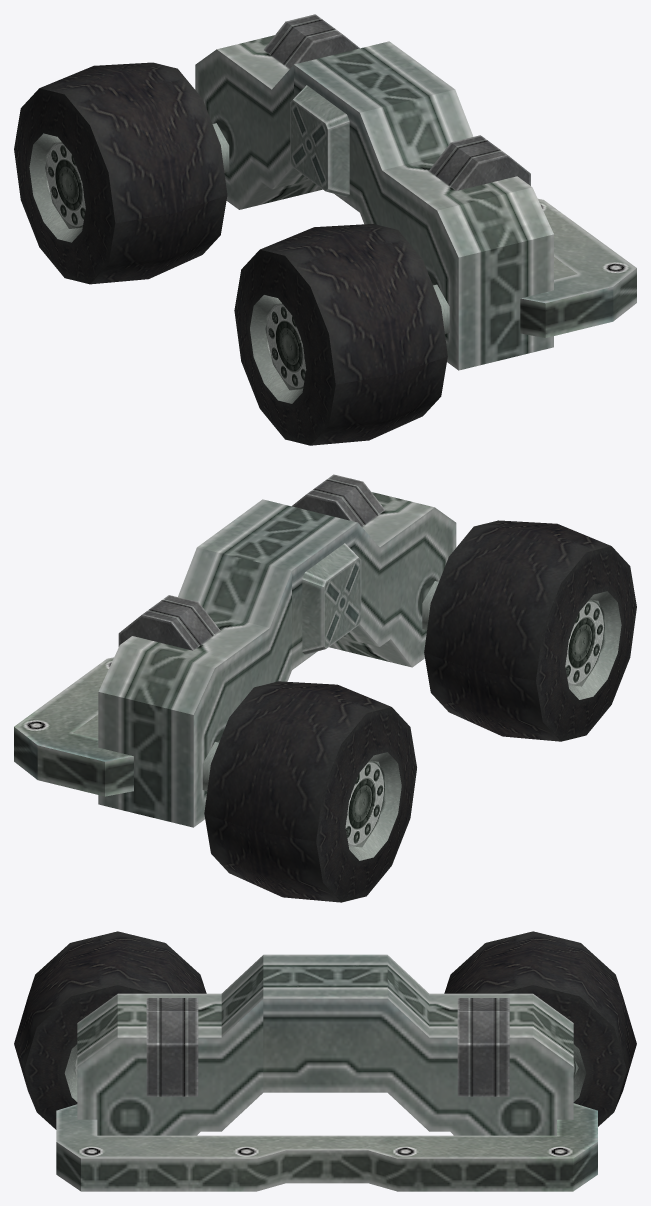
File: Wheel_half_short_L.FBX
3 views of the same model, one above another, from view 1: azimuth 30°, elevation 25°; view 2: azimuth 150°, elevation 25°; view 3: azimuth 270°, elevation 25° (orthographic). The views are drawn at different scales.
Visible parts, largest first — view 1: Wheel_half_short_L; view 2: Wheel_half_short_L; view 3: Wheel_half_short_L.
Part boxes in pixels (x1,y1,x2,y2): Wheel_half_short_L: (14,14,636,445); Wheel_half_short_L: (14,474,636,902); Wheel_half_short_L: (14,931,636,1191).
Bounding box in the file's own units: 178 × 121 × 300.
